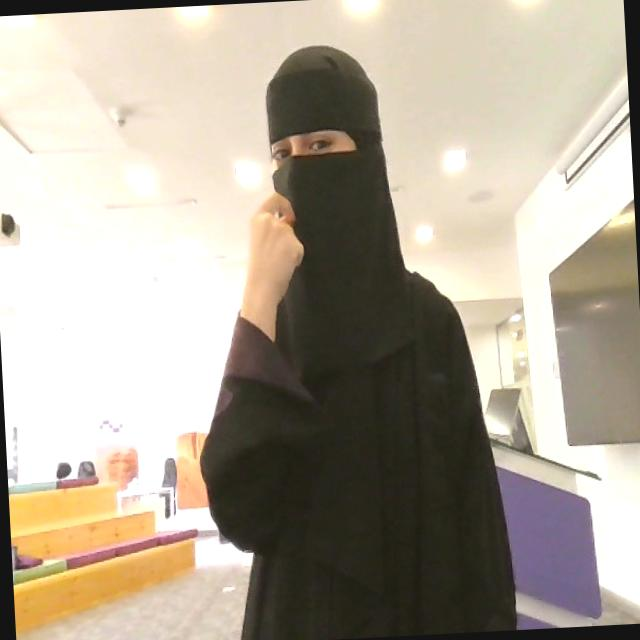medicine: (230, 188, 323, 342)
